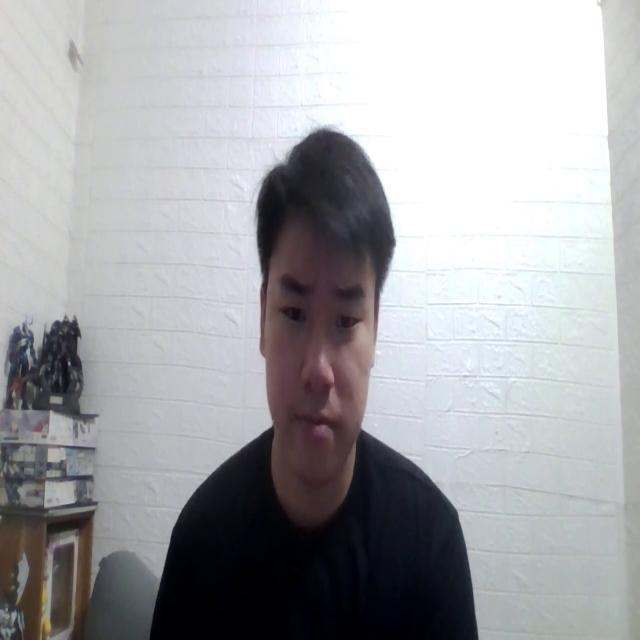student: (137, 102, 484, 640)
